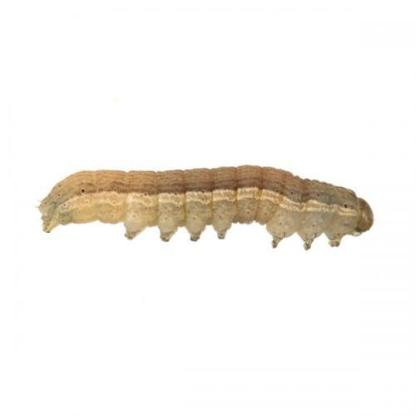oruga: (22, 160, 378, 250)
